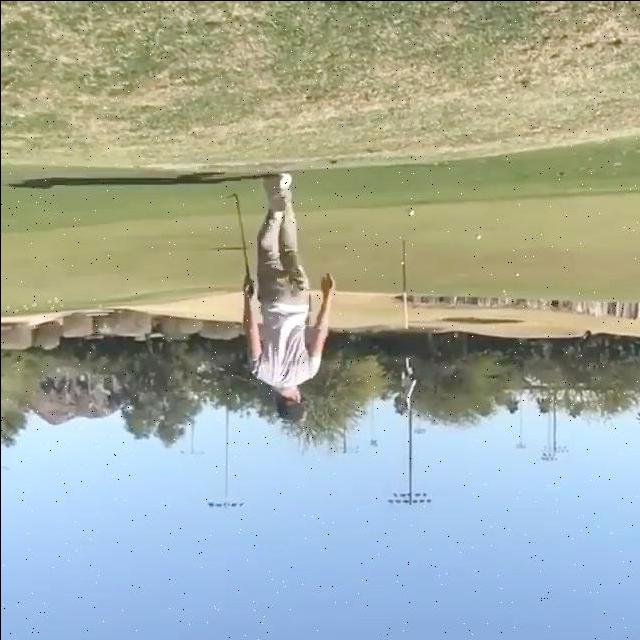golf ball: (407, 208, 413, 216), (474, 235, 481, 240), (399, 259, 405, 264), (514, 272, 518, 276), (501, 288, 505, 292)
golf club-handle: (223, 190, 251, 299)
golf club-head: (225, 193, 235, 200)
